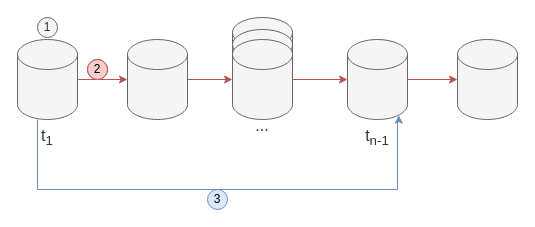
This 535x227 diagram has some shape labels left out. Here are the shapes that lost their labels. From the top down, the centre of each, then its label:
[157,79]: t 2
[487,79]: t n
